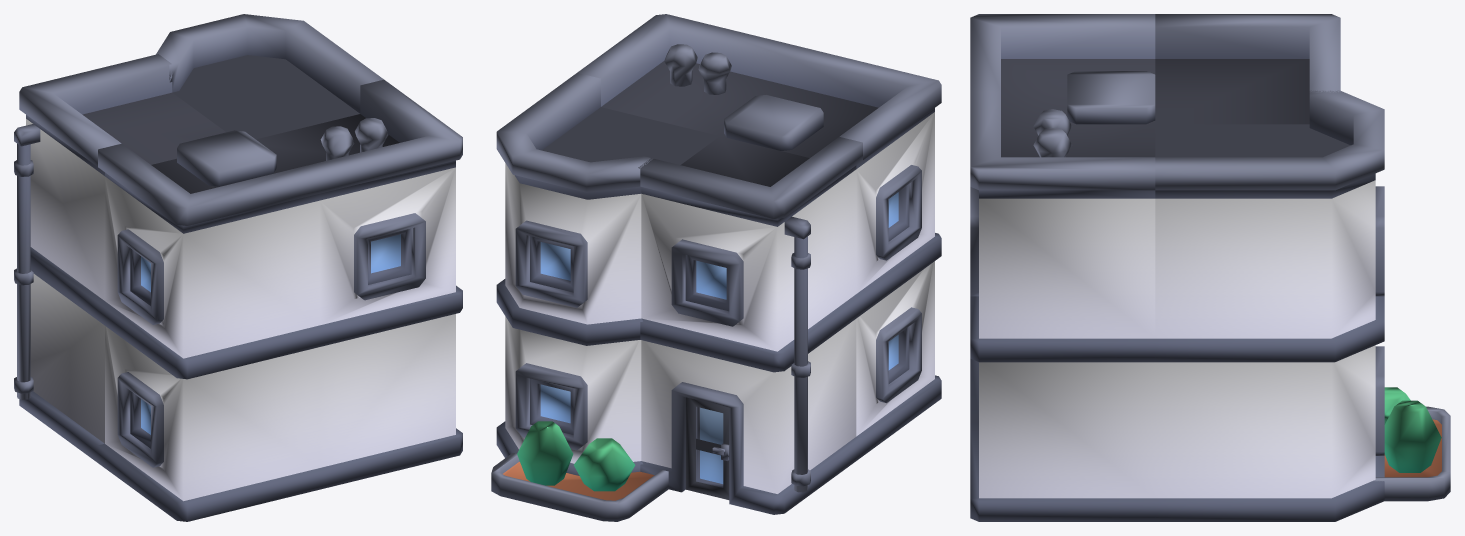
The model's file is building-c_lev1.glb.
3 views of the same model, side by side, from view 1: azimuth 30°, elevation 25°; view 2: azimuth 150°, elevation 25°; view 3: azimuth 270°, elevation 25° (orthographic). The views are drawn at different scales.
Visible parts, largest first — view 1: building-c_lev1; view 2: building-c_lev1; view 3: building-c_lev1.
Boxes of the visible parts, box(x1,y1,x2,y2) form: building-c_lev1: box(14, 14, 462, 521); building-c_lev1: box(491, 14, 941, 521); building-c_lev1: box(970, 14, 1450, 521).
Size of the model in its own units: 0.8836 by 0.893 by 1.09.
1 material, 1 textured.
